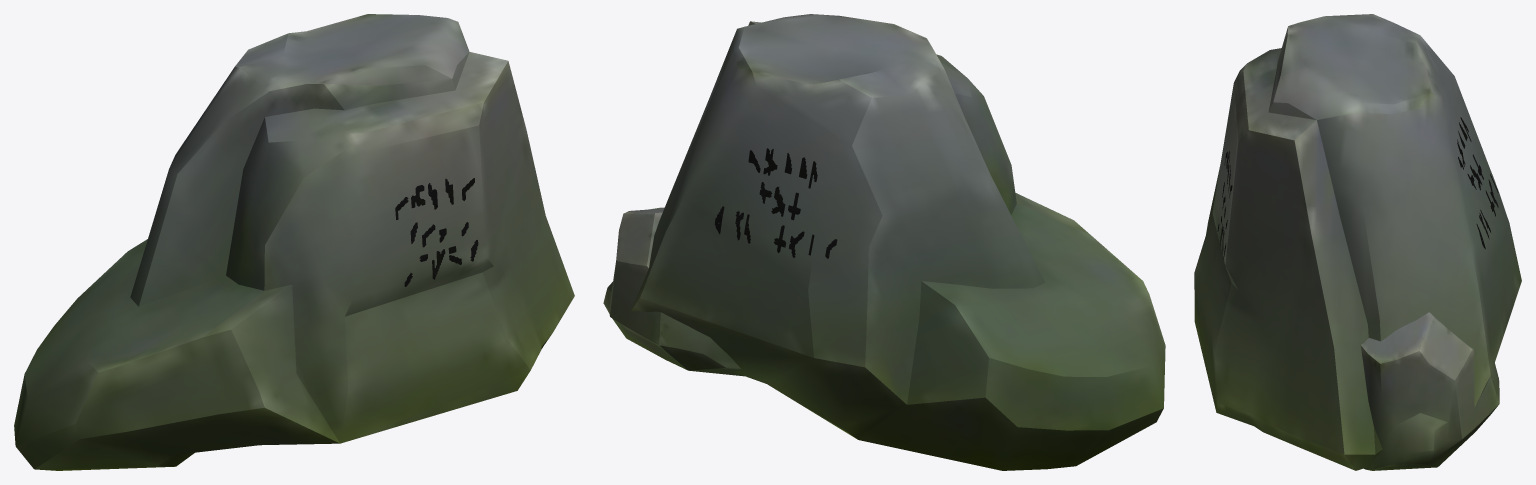
The model's file is marker.glb.
The picture shows the model from 3 angles, left to right: view 1: azimuth 30°, elevation 25°; view 2: azimuth 150°, elevation 25°; view 3: azimuth 270°, elevation 25°; orthographic projection. The views are drawn at different scales.
Parts seen in each view (by area): view 1: Rock_Medium_1.001; view 2: Rock_Medium_1.001; view 3: Rock_Medium_1.001.
Boxes of the visible parts, box(x1,y1,x2,y2) form: Rock_Medium_1.001: box(14, 14, 574, 470); Rock_Medium_1.001: box(603, 14, 1165, 470); Rock_Medium_1.001: box(1194, 14, 1521, 470).
Size of the model in its own units: 3.1 by 2 by 1.6.
Materials: 4 (4 with a texture image).
